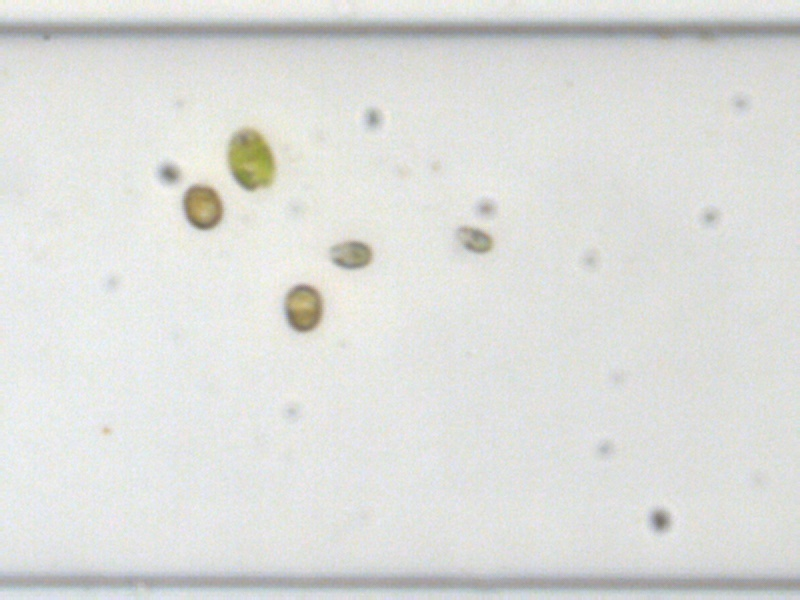Chlorella: (100, 424, 111, 435)
Dunaliella salina: (323, 236, 375, 272), (447, 223, 495, 255)
Effrenium: (180, 182, 225, 231), (280, 282, 324, 332)
Platymonas: (223, 125, 281, 192)
